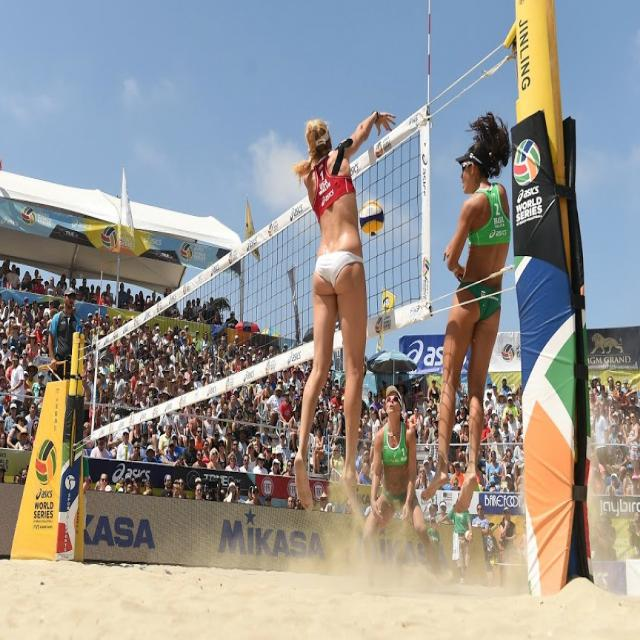body: (0, 257, 640, 514), (288, 108, 397, 518), (418, 108, 512, 516), (498, 505, 640, 639), (361, 383, 440, 575), (46, 284, 82, 382), (436, 505, 473, 586), (589, 512, 618, 613), (624, 510, 640, 592), (7, 352, 26, 417), (627, 409, 640, 479), (592, 404, 609, 449), (470, 502, 490, 539), (485, 520, 499, 572), (426, 515, 440, 545), (518, 521, 526, 552)
